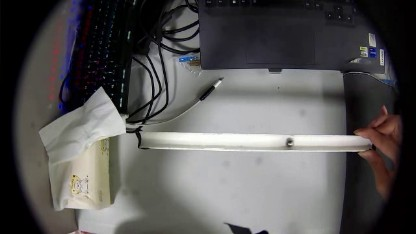gangzhu: (285, 137, 294, 146)
